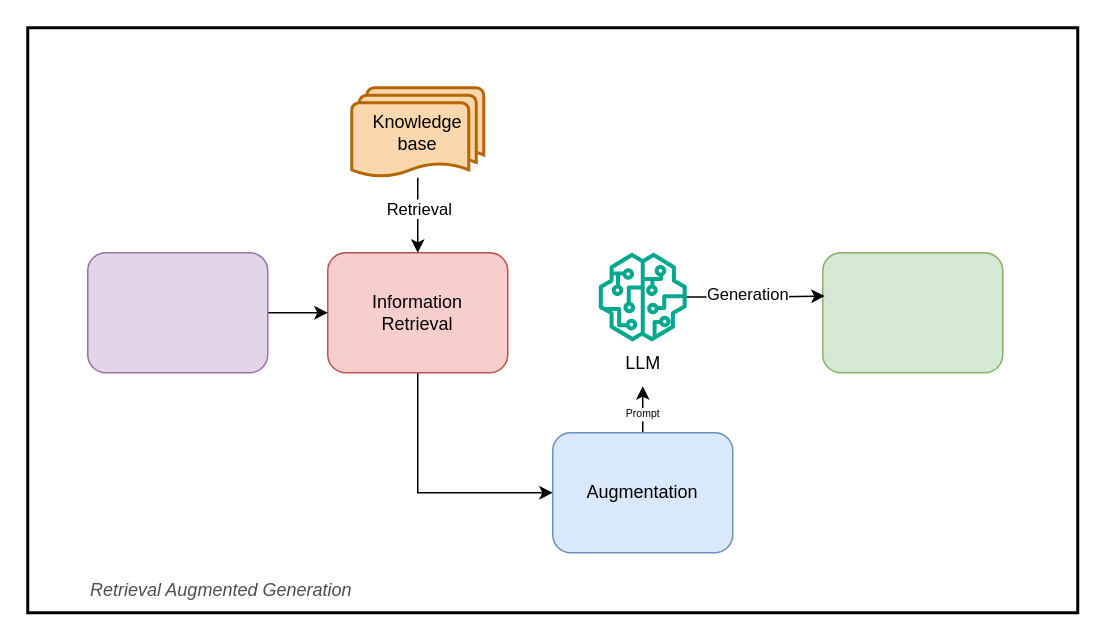
Some shapes in this 1104 by 639 pixel diagram are drawn without their labels. The shapes that lost their labels are listed below. From the top down, each one's box as (x1, y1, x2, y2) in pixels, then its label:
(86, 251, 268, 373): Question
(821, 251, 1003, 373): Answer
